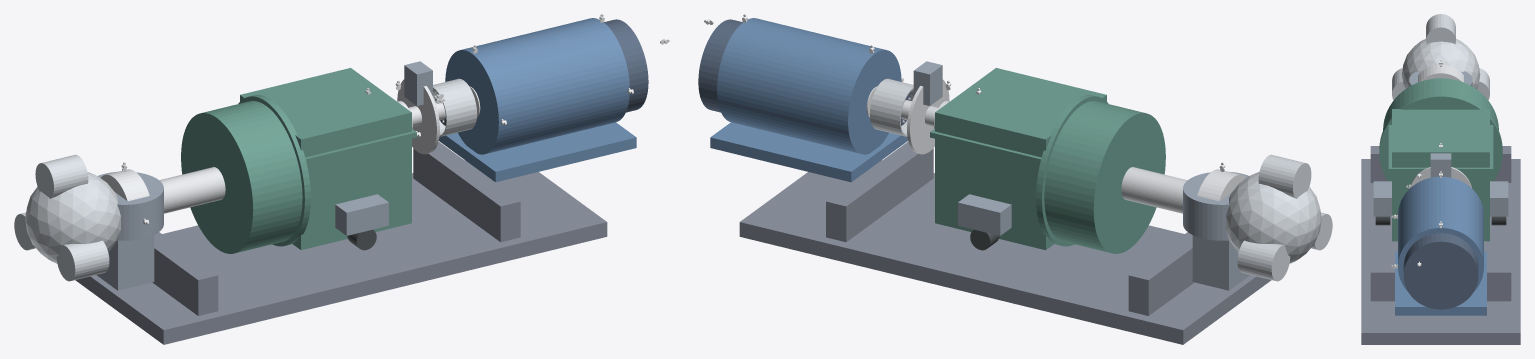
Rendered from wind-turbine-drivetrain.glb.
3 views of the same model, side by side, from view 1: azimuth 30°, elevation 25°; view 2: azimuth 150°, elevation 25°; view 3: azimuth 270°, elevation 25° (orthographic). The views are drawn at different scales.
Parts seen in each view (by area): view 1: PART_001, CASING_GENCASE_049, CASING_GBHOUSING_018, CASING_PLANETARY_016, PART_005, PART_003, CASING_GENFOOT_050, PART_002, CASING_MAINBRG_011, CASING_MAINBRG_010, PART_009, CASING_GENCOWL_051 (+9 smaller); view 2: PART_001, CASING_GENCASE_049, CASING_GBHOUSING_018, CASING_PLANETARY_016, PART_005, PART_003, CASING_GENFOOT_050, PART_002, CASING_MAINBRG_011, CASING_MAINBRG_010, PART_009, CASING_GENCOWL_051 (+9 smaller); view 3: PART_001, CASING_GBHOUSING_018, CASING_GENCASE_049, CASING_GENCOWL_051, PART_005, CASING_PLANETARY_017, PART_003, CASING_GENFOOT_050, CASING_PLANETARY_016, PART_002, PART_006, CASING_SPLITLINE_019 (+10 smaller).
Part boxes in pixels (<box>): PART_001: <box>75,160,607,344</box>; CASING_GENCASE_049: <box>445,18,629,154</box>; CASING_GBHOUSING_018: <box>240,68,411,250</box>; CASING_PLANETARY_016: <box>181,101,302,253</box>; PART_005: <box>25,172,120,263</box>; PART_003: <box>413,142,520,242</box>; CASING_GENFOOT_050: <box>439,122,636,182</box>; PART_002: <box>152,232,218,315</box>; CASING_MAINBRG_011: <box>97,235,154,290</box>; CASING_MAINBRG_010: <box>98,171,163,240</box>; PART_009: <box>159,167,225,213</box>; CASING_GENCOWL_051: <box>604,19,648,112</box>; PART_001: <box>739,160,1271,344</box>; CASING_GENCASE_049: <box>717,18,901,154</box>; CASING_GBHOUSING_018: <box>935,68,1106,250</box>; CASING_PLANETARY_016: <box>1044,101,1165,253</box>; PART_005: <box>1226,171,1321,263</box>; PART_003: <box>826,142,933,242</box>; CASING_GENFOOT_050: <box>710,122,907,182</box>; PART_002: <box>1128,232,1194,315</box>; CASING_MAINBRG_011: <box>1192,235,1249,290</box>; CASING_MAINBRG_010: <box>1183,171,1248,240</box>; PART_009: <box>1121,167,1187,213</box>; CASING_GENCOWL_051: <box>698,19,742,112</box>; PART_001: <box>1361,159,1520,344</box>; CASING_GBHOUSING_018: <box>1392,109,1489,241</box>; CASING_GENCASE_049: <box>1398,176,1483,291</box>; CASING_GENCOWL_051: <box>1403,233,1478,309</box>; PART_005: <box>1401,39,1480,89</box>; CASING_PLANETARY_017: <box>1379,94,1502,181</box>; PART_003: <box>1370,264,1511,301</box>; CASING_GENFOOT_050: <box>1395,251,1486,315</box>; CASING_PLANETARY_016: <box>1383,78,1498,130</box>; PART_002: <box>1370,146,1511,182</box>; PART_006: <box>1426,14,1455,44</box>; CASING_SPLITLINE_019: <box>1388,125,1493,172</box>.
Size of the model in its own units: 6.19 by 1.66 by 1.7.
